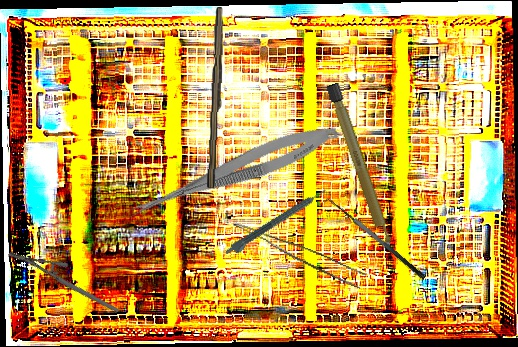Handpiece: (223, 186, 331, 261)
Micro Scissor: (122, 115, 343, 232)
Needle Holder: (7, 224, 120, 341)
Scalpel Handle: (325, 82, 395, 252), (206, 6, 227, 189)
Spatula Surgical: (320, 192, 428, 289)
Tissue Forceps: (227, 221, 369, 290)
